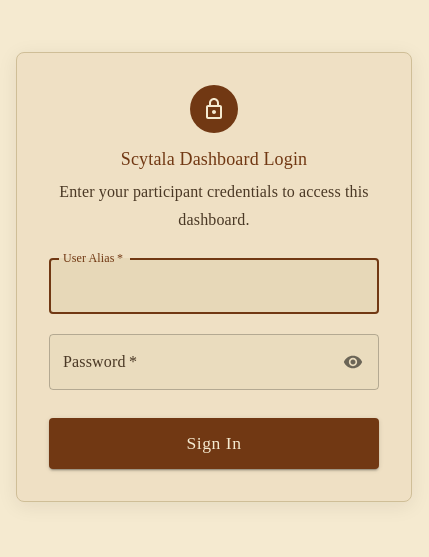
Test: LoginForm Client Component › displays error alert when login action returns failure without field errors
Type "UnknownUser" into the field labelled "User Alias" at coordinates (214, 286), box [49, 258, 379, 314]
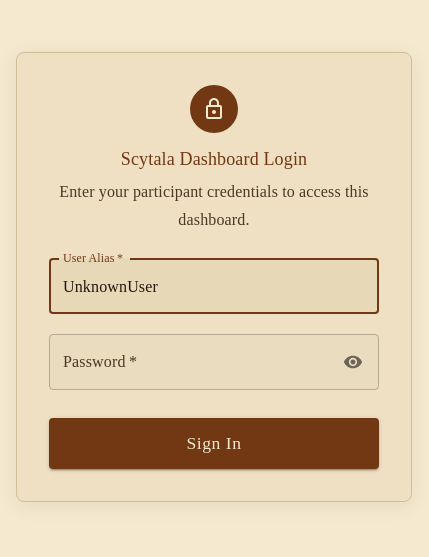
Type "WrongPassword" into the password field labelled "Password" at coordinates (190, 362), box [49, 334, 330, 390]
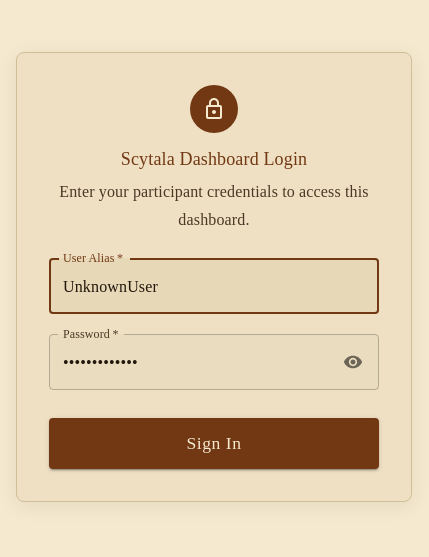
Click the button "Sign In" at coordinates (214, 444), box [49, 418, 379, 469]
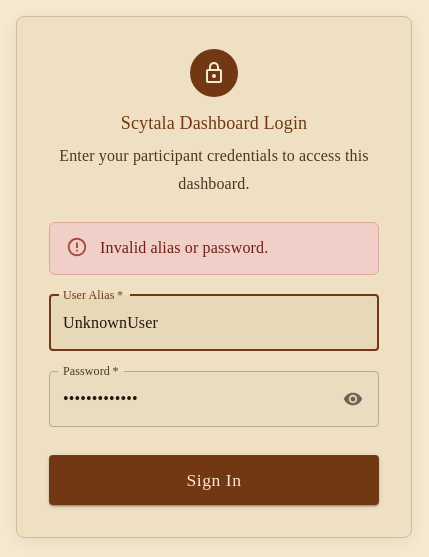
Now the message reads "Invalid alias or password.", box [100, 239, 268, 256]
